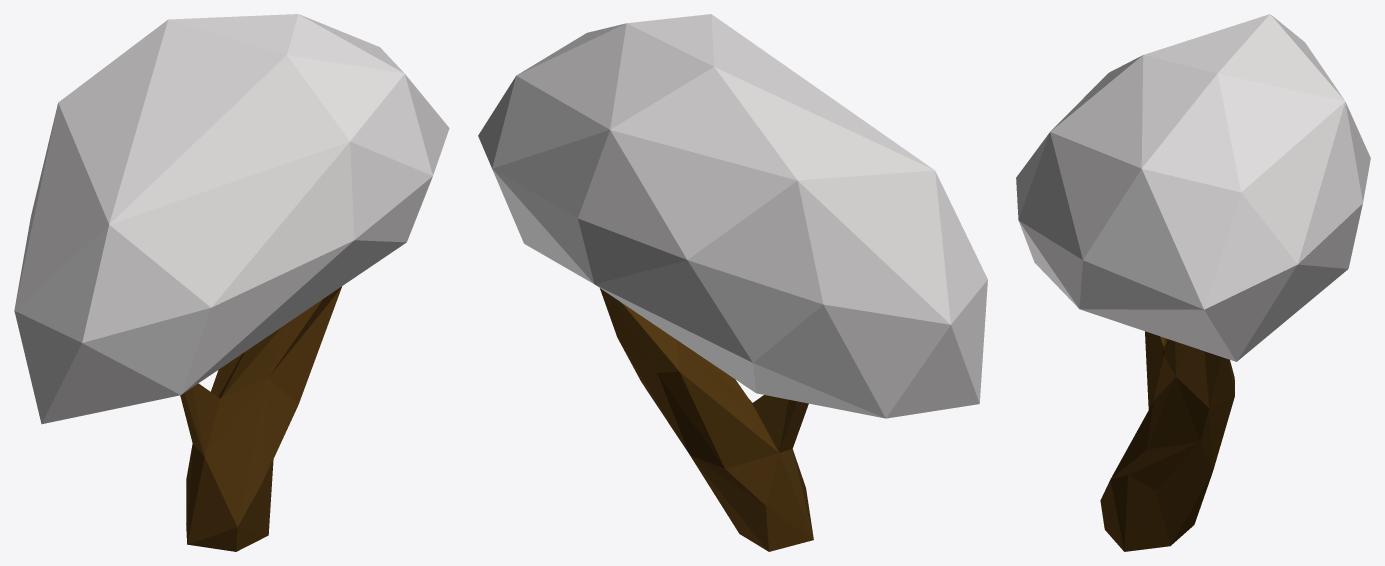
The model's file is Snow_tree_big_puff.fbx.
3 views of the same model, side by side, from view 1: azimuth 30°, elevation 25°; view 2: azimuth 150°, elevation 25°; view 3: azimuth 270°, elevation 25° (orthographic). The views are drawn at different scales.
Parts seen in each view (by area): view 1: Icosphere.001; view 2: Icosphere.001; view 3: Icosphere.001.
Part boxes in pixels (x1=…): Icosphere.001: x1=14, y1=14, x2=449, y2=551; Icosphere.001: x1=478, y1=14, x2=987, y2=551; Icosphere.001: x1=1016, y1=14, x2=1370, y2=551.
Bounding box in the file's own units: 944 × 978 × 604.
